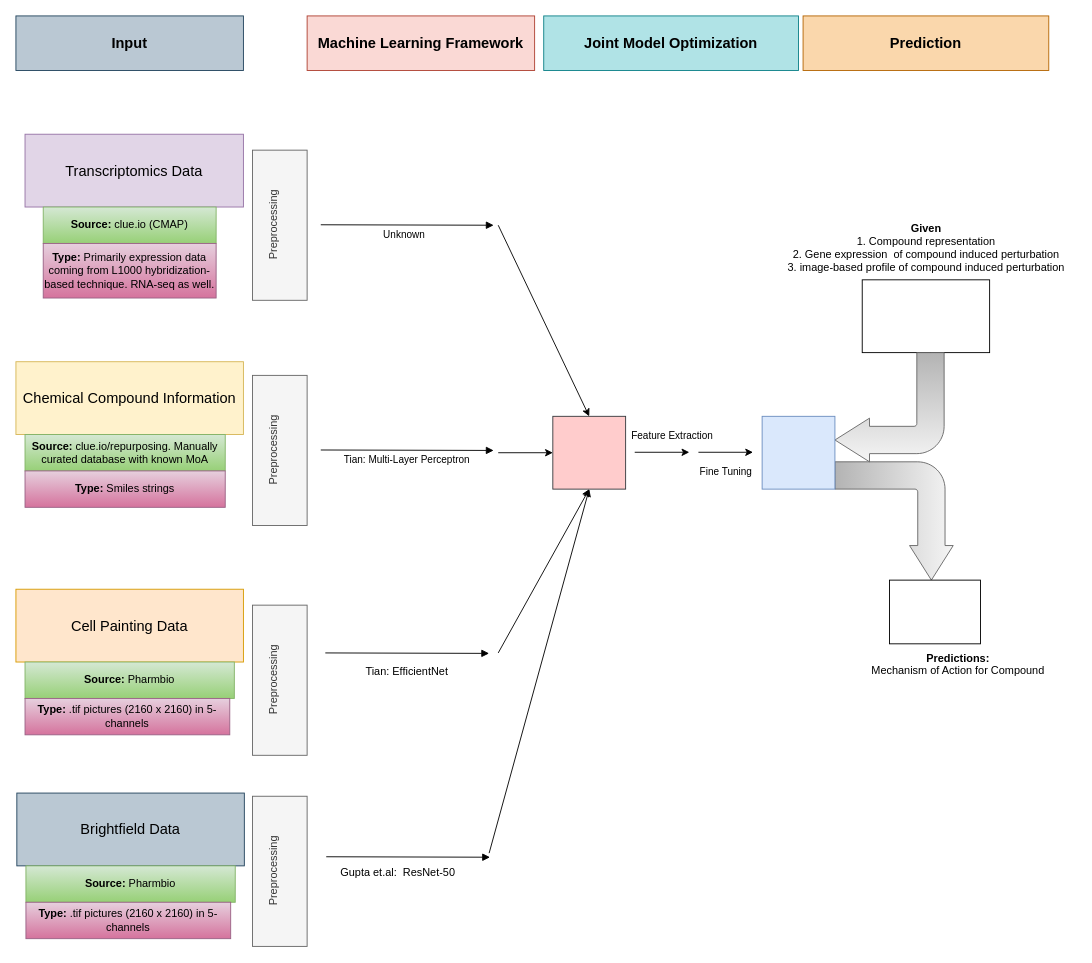
This 1092x963 diagram has some shape labels left out. Here are the shapes that lost their labels. From the top down, the box of each, then its label:
(861, 279, 990, 353): Unknown Compound 1 Unknown Compound 2 Unknown Compound 3
(552, 415, 626, 489): Joint Model
(761, 415, 835, 489): Final Joint Model
(889, 579, 981, 644): MoA 1 MoA 2 MoA 3
